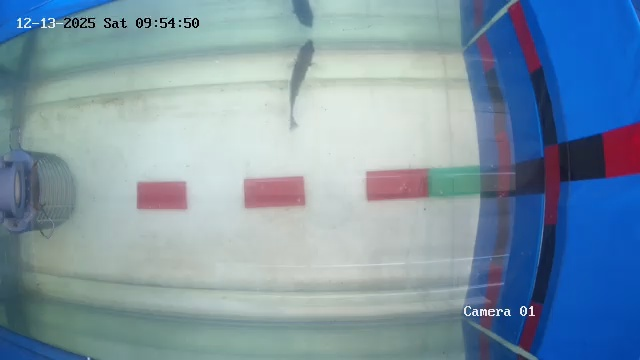fish: (274, 41, 333, 127)
